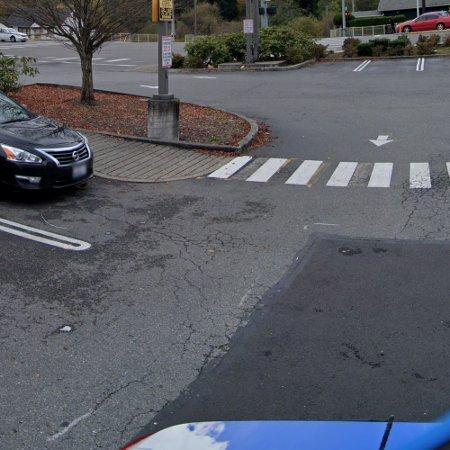crosswalks: (207, 153, 450, 189)
